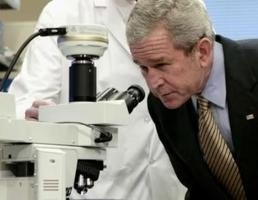person without safety: (123, 1, 258, 148)
